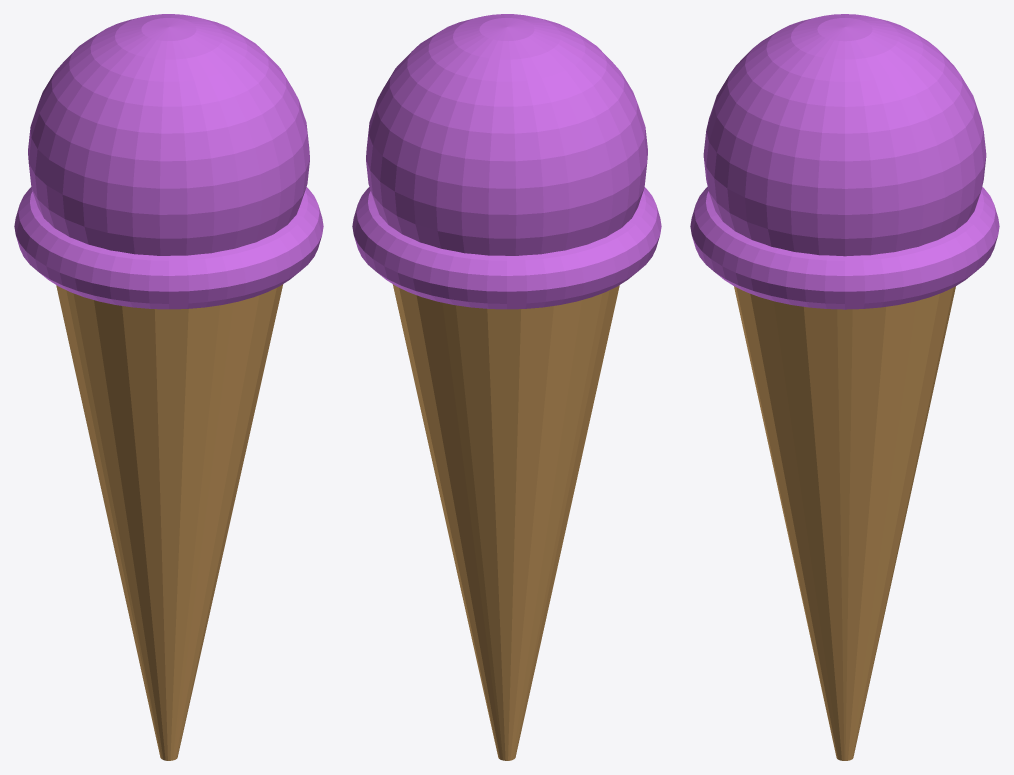
The model's file is IceCream.fbx.
The picture shows the model from 3 angles, left to right: view 1: azimuth 30°, elevation 25°; view 2: azimuth 150°, elevation 25°; view 3: azimuth 270°, elevation 25°; orthographic projection.
Visible parts, largest first — view 1: Sphere, Cube, Torus; view 2: Sphere, Cube, Torus; view 3: Sphere, Cube, Torus.
Part boxes in pixels (bbox=[...]): Sphere: bbox=[28, 14, 309, 255]; Cube: bbox=[56, 284, 283, 760]; Torus: bbox=[14, 187, 323, 309]; Sphere: bbox=[366, 14, 647, 255]; Cube: bbox=[392, 284, 619, 760]; Torus: bbox=[352, 187, 661, 309]; Sphere: bbox=[703, 14, 986, 256]; Cube: bbox=[734, 286, 955, 760]; Torus: bbox=[690, 187, 999, 309].
Bounding box in the file's own units: 250 × 651 × 250.
